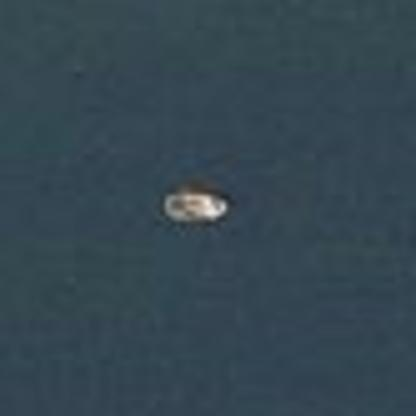ship: (154, 183, 233, 228)
